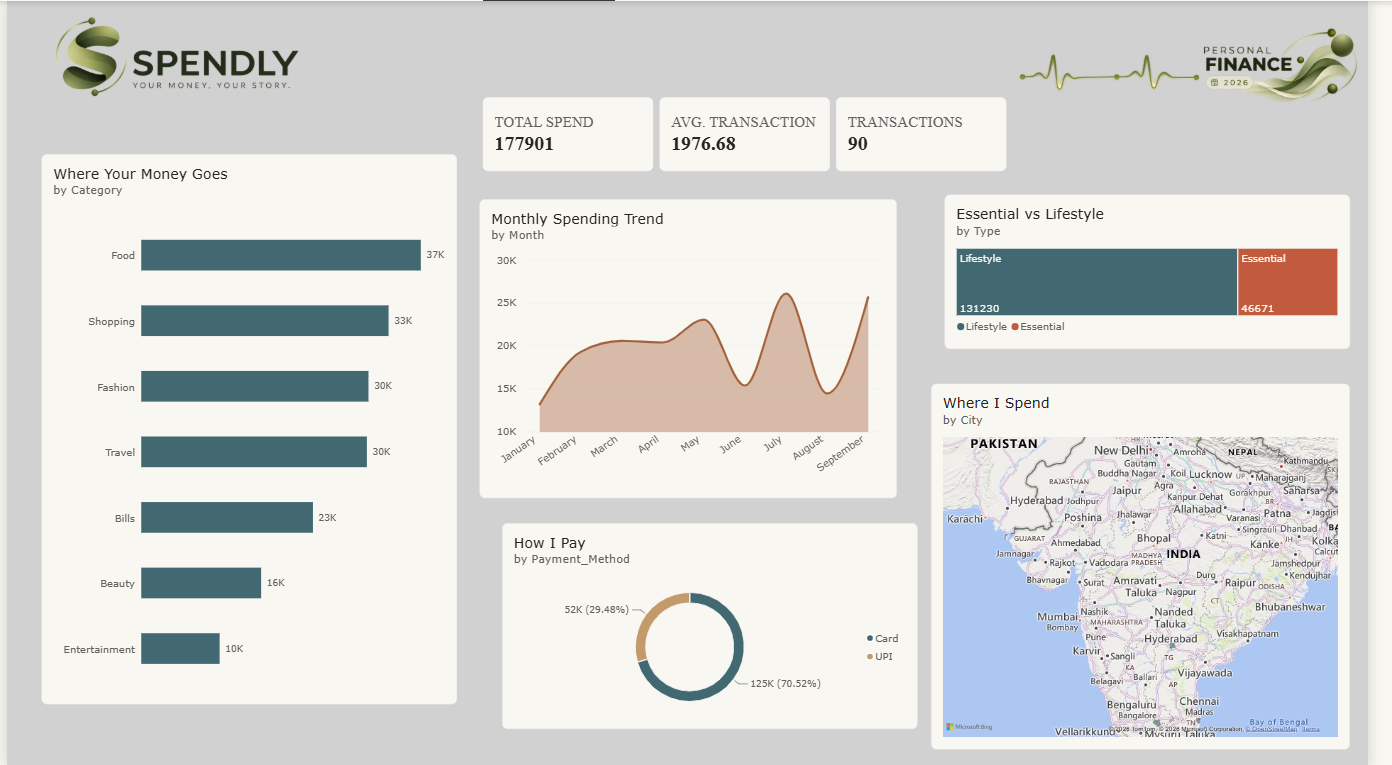

Layout of this report page (visuals, bound fields, positions):
{"tool":"powerbi","page":{"name":"Page 1","canvas":[1920,1080],"ordinal":0},"visuals":[{"type":"barChart","title":"Where Your Money Goes","fields":{"Category":["Table1.Category"],"Y":["Sum(Table1.Amount)"]},"box":[49.2,159.4,586.1,832.3],"z":0},{"type":"areaChart","fields":{"Category":["Table1.Date.Variation.Date Hierarchy.Month"],"Y":["Sum(Table1.Amount)"]},"box":[665.8,279,588.5,422],"z":1000},{"type":"donutChart","fields":{"Category":["Table1.Payment_Method"],"Y":["Sum(Table1.Amount)"]},"box":[698.7,736.2,586.1,290.7],"z":2000},{"type":"filledMap","fields":{"Category":["Table1.City"]},"box":[1303.5,539.2,590.8,515.8],"z":3000},{"type":"image","box":[0,0,471.2,159.4],"z":4000},{"type":"cardVisual","fields":{"Data":["Sum(Table1.Amount)","Avg(Table1.Amount)","CountNonNull(Table1.Amount)"]},"box":[670.5,136,740.9,105.5],"z":5000},{"type":"treemap","title":"Essential vs Lifestyle","fields":{"Group":["Table1.Type"],"Values":["Sum(Table1.Amount)"]},"box":[1322.3,272,572.1,218],"z":6000},{"type":"image","box":[1411.4,0,508.8,189.9],"z":7000}]}

Visuals, with their boxes in screenshot pixels (x1, y1, x2, y2), scaled from the page's 1920x1080 canvas onto the 1392x765 screenshot:
"Where Your Money Goes" barChart: x1=36, y1=113, x2=461, y2=702
areaChart - Table1.Date.Variation.Date Hierarchy.Month x Sum(Table1.Amount): x1=483, y1=198, x2=909, y2=497
donutChart - Table1.Payment_Method x Sum(Table1.Amount): x1=507, y1=521, x2=931, y2=727
filledMap - Table1.City: x1=945, y1=382, x2=1373, y2=747
image: x1=0, y1=0, x2=342, y2=113
cardVisual - Sum(Table1.Amount) x Avg(Table1.Amount): x1=486, y1=96, x2=1023, y2=171
"Essential vs Lifestyle" treemap: x1=959, y1=193, x2=1373, y2=347
image: x1=1023, y1=0, x2=1391, y2=135
